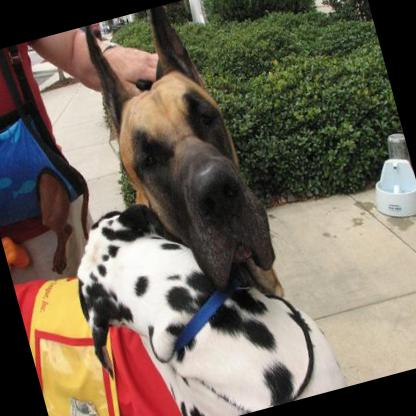Great_Dane: (47, 153, 348, 416), (79, 0, 286, 321)
